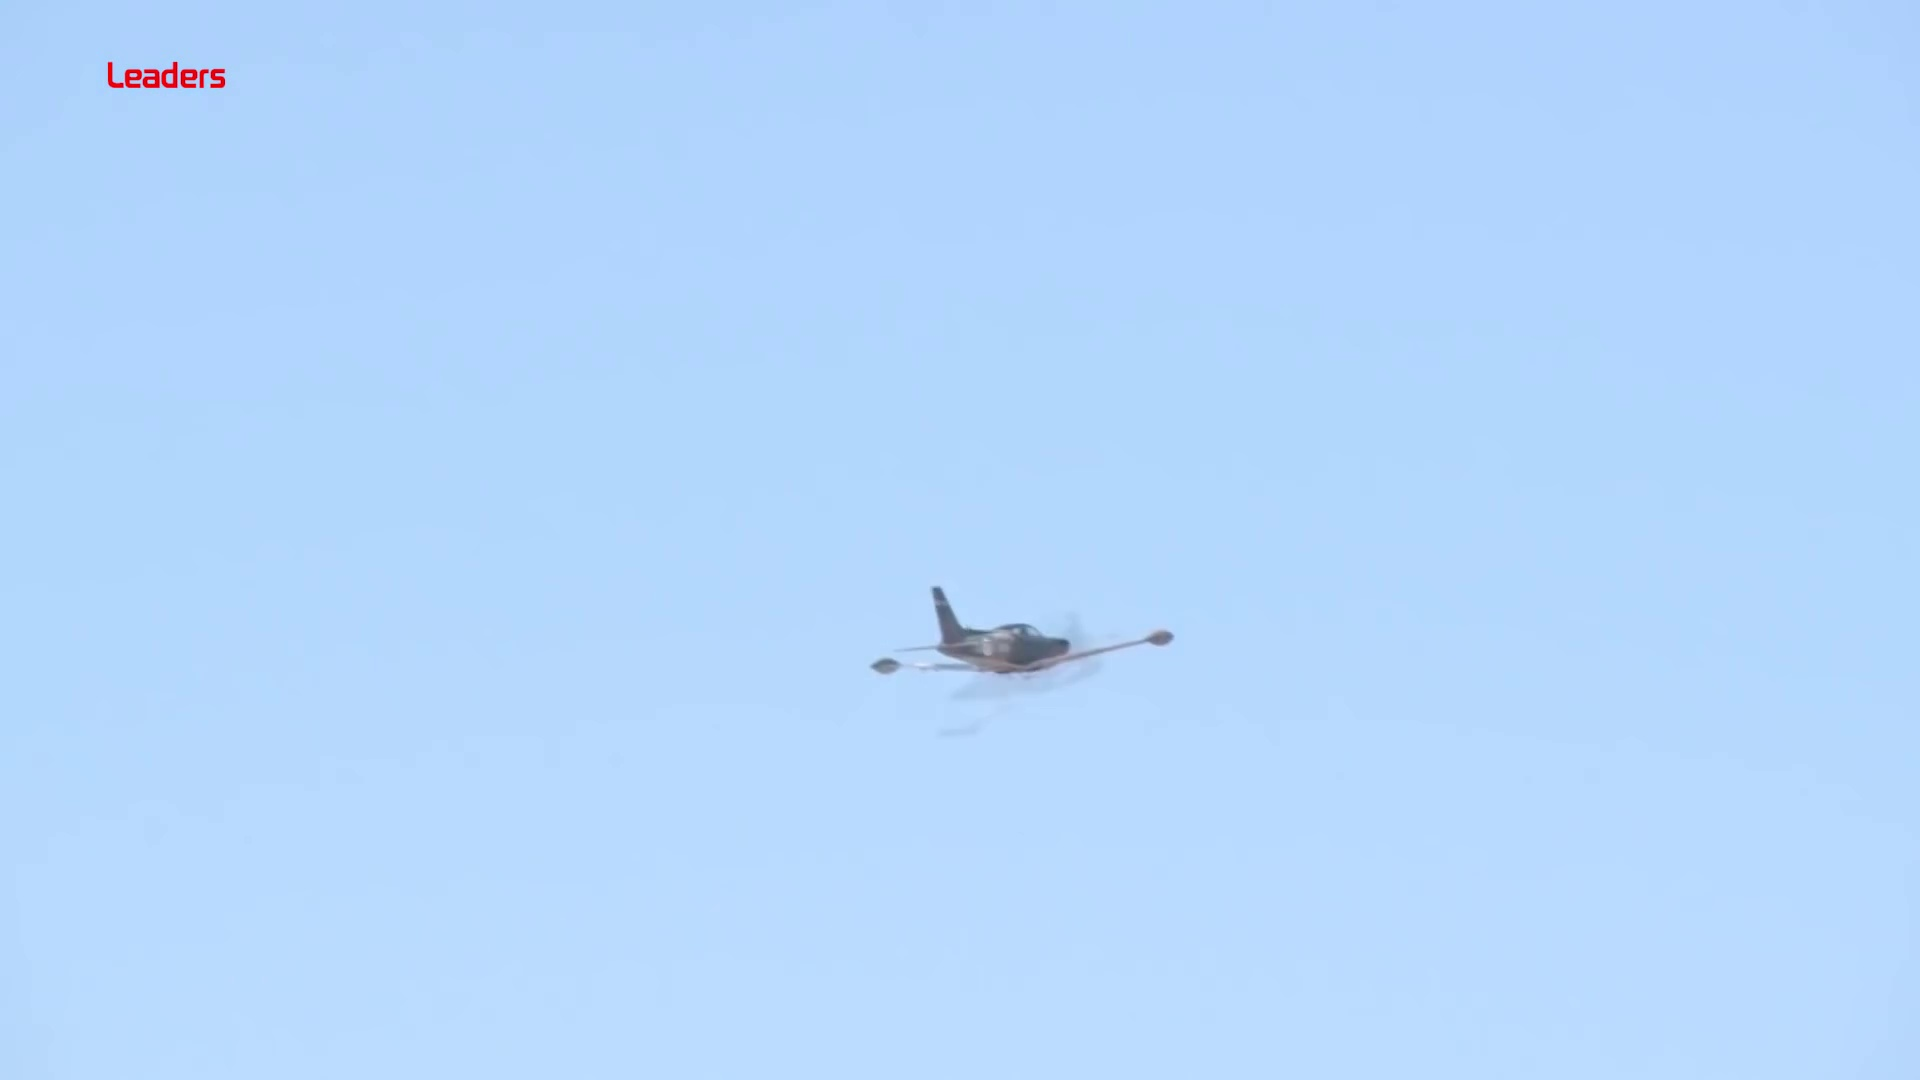Airplane: (869, 583, 1207, 690)
